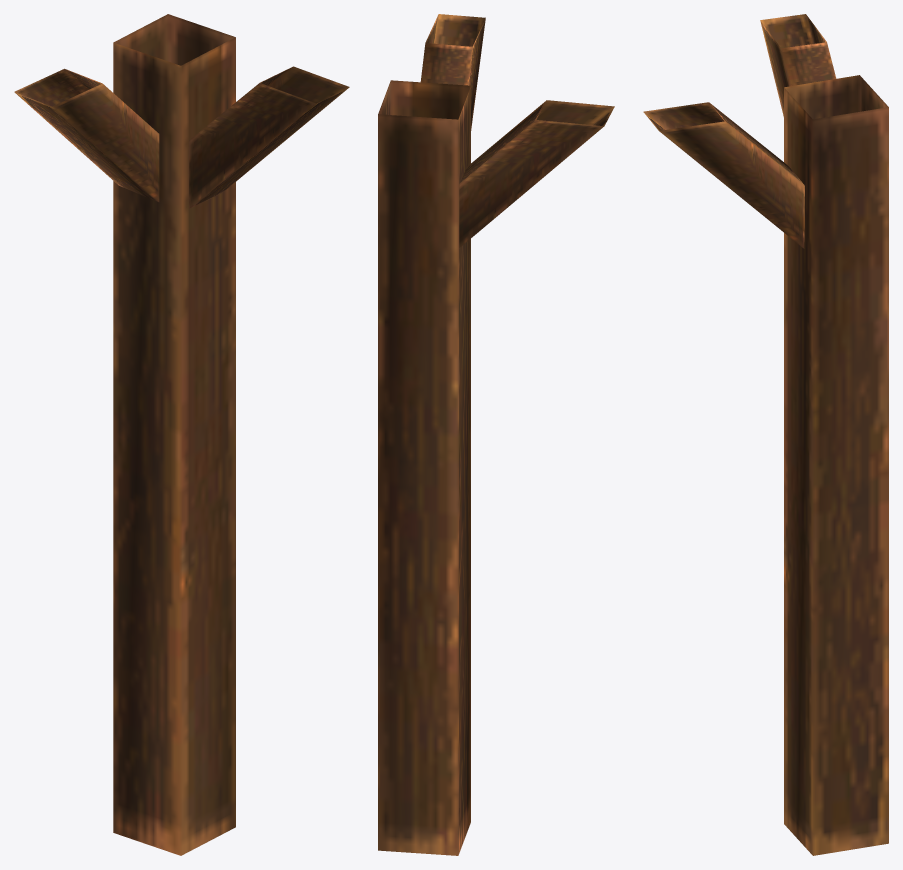
Rendered from SWORDLIGHT20_JAILPLATSUPPORT75.fbx.
The picture shows the model from 3 angles, left to right: view 1: azimuth 30°, elevation 25°; view 2: azimuth 150°, elevation 25°; view 3: azimuth 270°, elevation 25°; orthographic projection. The views are drawn at different scales.
Parts seen in each view (by area): view 1: SWORDLIGHT20_JAILPLATSUPPORT75; view 2: SWORDLIGHT20_JAILPLATSUPPORT75; view 3: SWORDLIGHT20_JAILPLATSUPPORT75.
Part boxes in pixels (left/top/right/bottom): SWORDLIGHT20_JAILPLATSUPPORT75: left=14, top=14, right=349, bottom=855; SWORDLIGHT20_JAILPLATSUPPORT75: left=378, top=14, right=614, bottom=855; SWORDLIGHT20_JAILPLATSUPPORT75: left=643, top=14, right=888, bottom=855.
Bounding box in the file's own units: 13612 × 40148 × 12096.
Materials: 1 (1 with a texture image).
